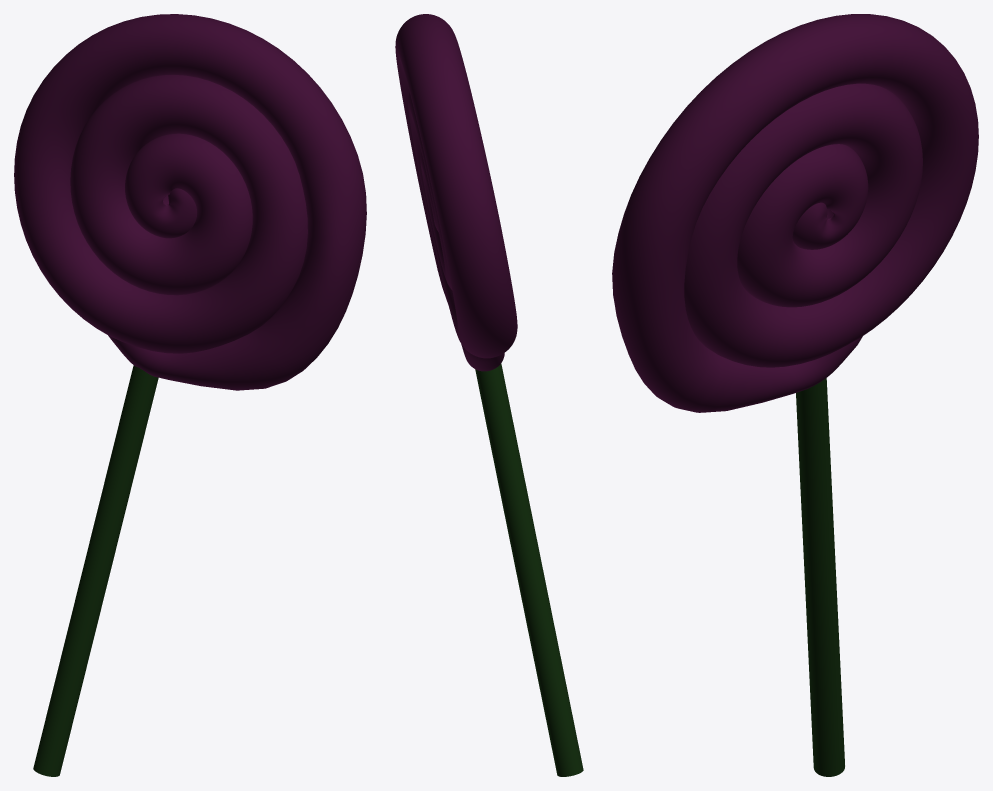
The model's file is lollipopTextured.fbx.
3 views of the same model, side by side, from view 1: azimuth 30°, elevation 25°; view 2: azimuth 150°, elevation 25°; view 3: azimuth 270°, elevation 25° (orthographic). The views are drawn at different scales.
Visible parts, largest first — view 1: polySurface28 (×2); view 2: polySurface28 (×2); view 3: polySurface28 (×2).
Part boxes in pixels (bbox=[...]): polySurface28 (×2): bbox=[14, 14, 366, 776]; polySurface28 (×2): bbox=[395, 14, 583, 776]; polySurface28 (×2): bbox=[612, 14, 978, 776].
Bounding box in the file's own units: 133 × 363 × 146.
